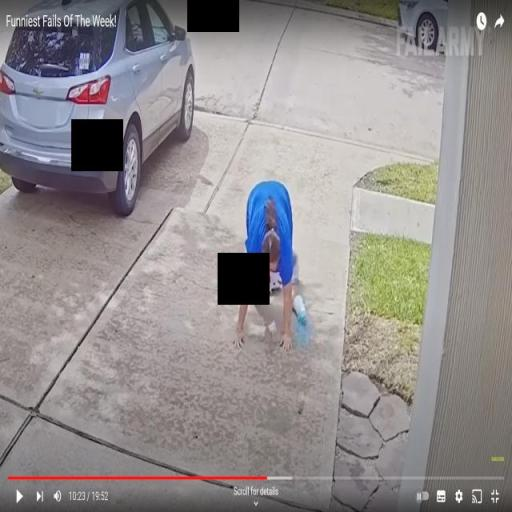Fall: (231, 177, 299, 353)
